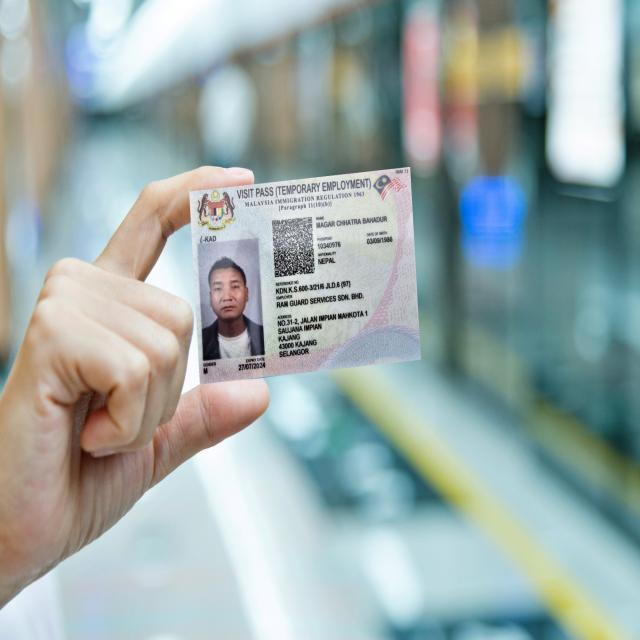ikad-temp: (188, 165, 422, 386)
